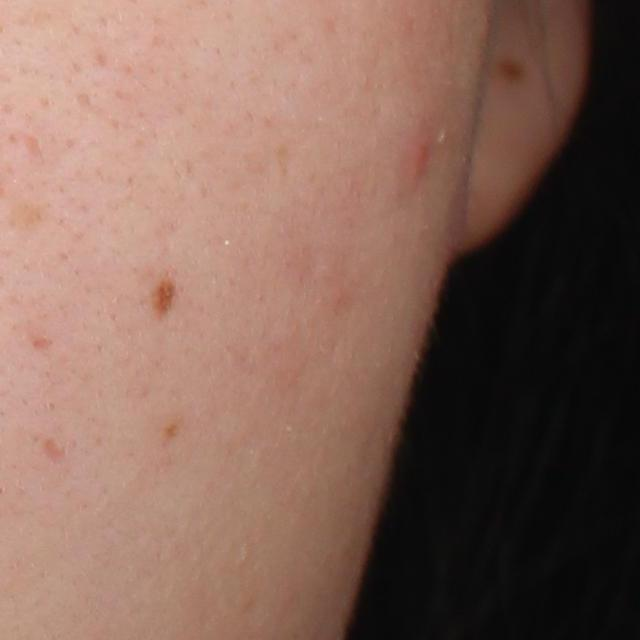atrophic_scar: (36, 435, 72, 469), (24, 129, 47, 163), (33, 336, 56, 352)
nevus: (152, 270, 182, 319)
papule: (398, 130, 433, 196)
